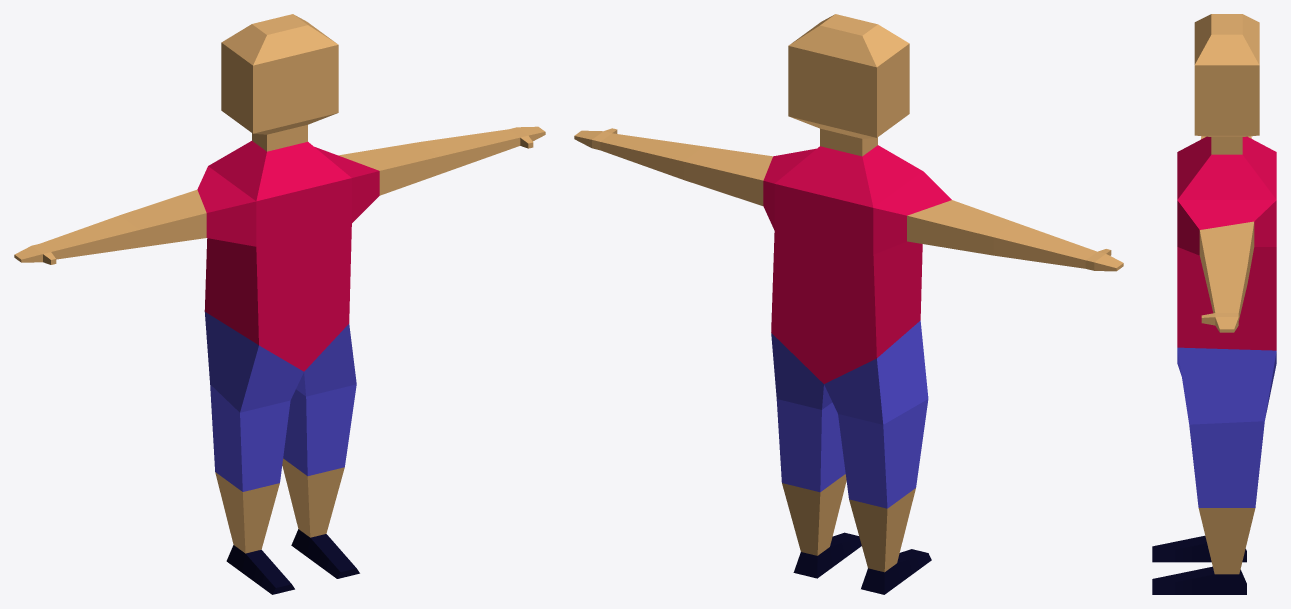
File: KaradenizliAdam.fbx
3 renders of one model, left to right at view 1: azimuth 30°, elevation 25°; view 2: azimuth 150°, elevation 25°; view 3: azimuth 270°, elevation 25°, orthographic. The views are drawn at different scales.
Visible parts, largest first — view 1: Cube; view 2: Cube; view 3: Cube.
Part boxes in pixels (left/top/right/bottom): Cube: left=14, top=14, right=545, bottom=594; Cube: left=574, top=14, right=1123, bottom=594; Cube: left=1152, top=14, right=1276, bottom=594.
Size of the model in its own units: 204 by 199 by 40.8.
